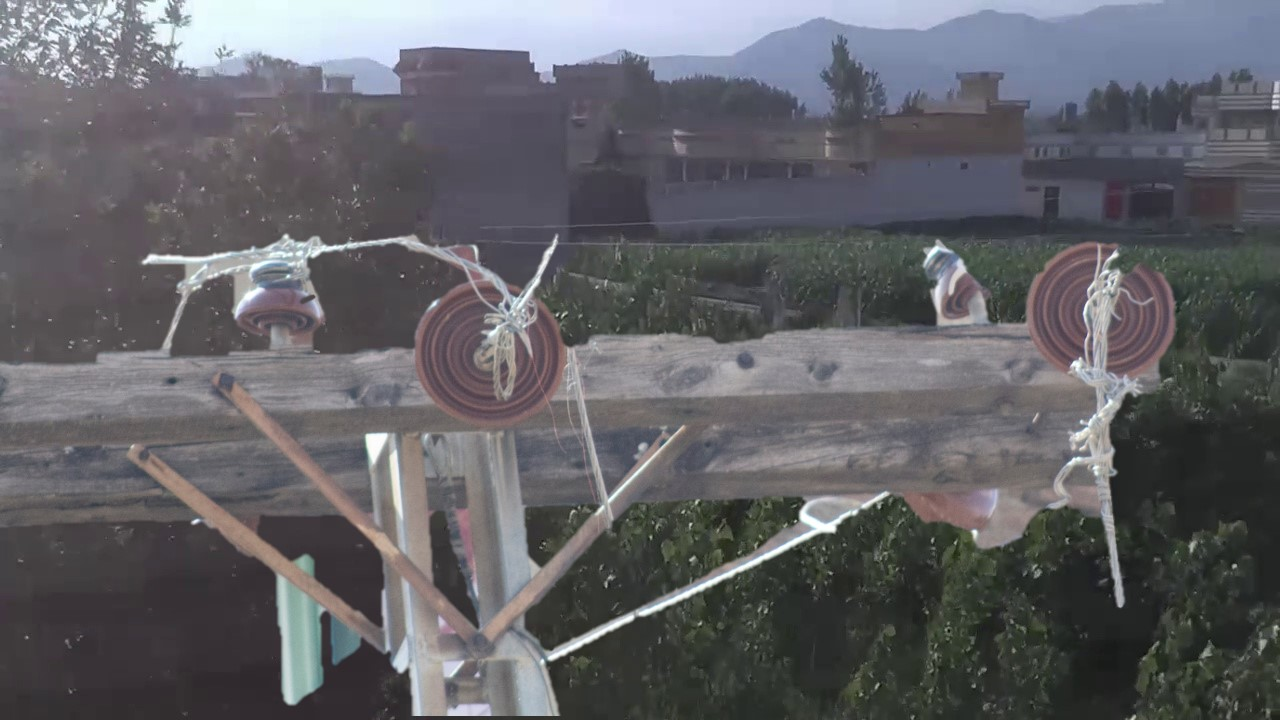defect_pin: (914, 236, 995, 333)
insulator_disc: (412, 272, 571, 435), (1025, 230, 1184, 386)
insulator_pin: (226, 249, 332, 348)
